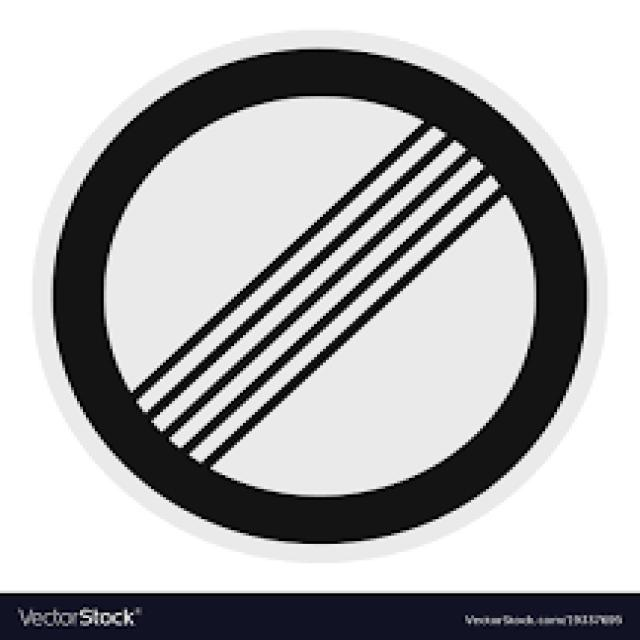restriction ends: (51, 43, 588, 543)
